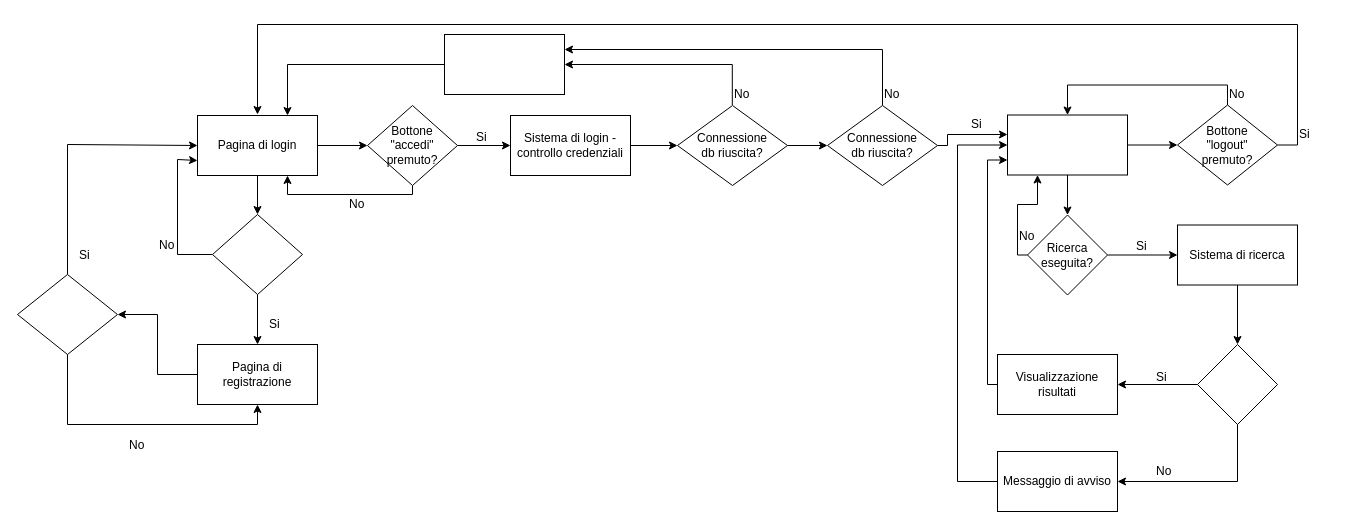
Some shapes in this 1345 by 529 pixel diagram are drawn without their labels. The shapes that lost their labels are listed below. From the top down, each one's centre as x and y in pixels, then its label:
point 504,64: Mostra messaggio d'errore
point 1067,144: Pagina di visualizzazione casi
point 257,254: Bottone "registarti" premuto?
point 67,314: Bottone "login" premuto
point 1237,384: Ci sono rislutati?
